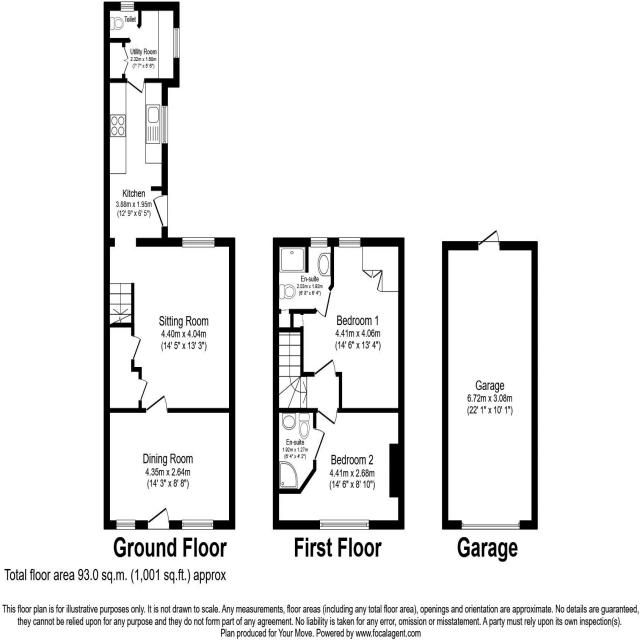DOOR: (142, 392, 169, 416), (146, 506, 172, 530), (311, 355, 338, 376), (152, 192, 168, 227), (315, 407, 341, 428), (127, 78, 145, 95)
ROOM: (103, 237, 235, 412), (290, 237, 405, 413), (104, 388, 235, 530), (273, 408, 404, 529), (103, 78, 180, 238)
WINDOW: (319, 519, 371, 533), (181, 236, 215, 249), (181, 519, 214, 531), (160, 103, 169, 146), (338, 236, 361, 249), (114, 519, 136, 531), (173, 26, 181, 59), (310, 237, 328, 249), (120, 1, 135, 12)
